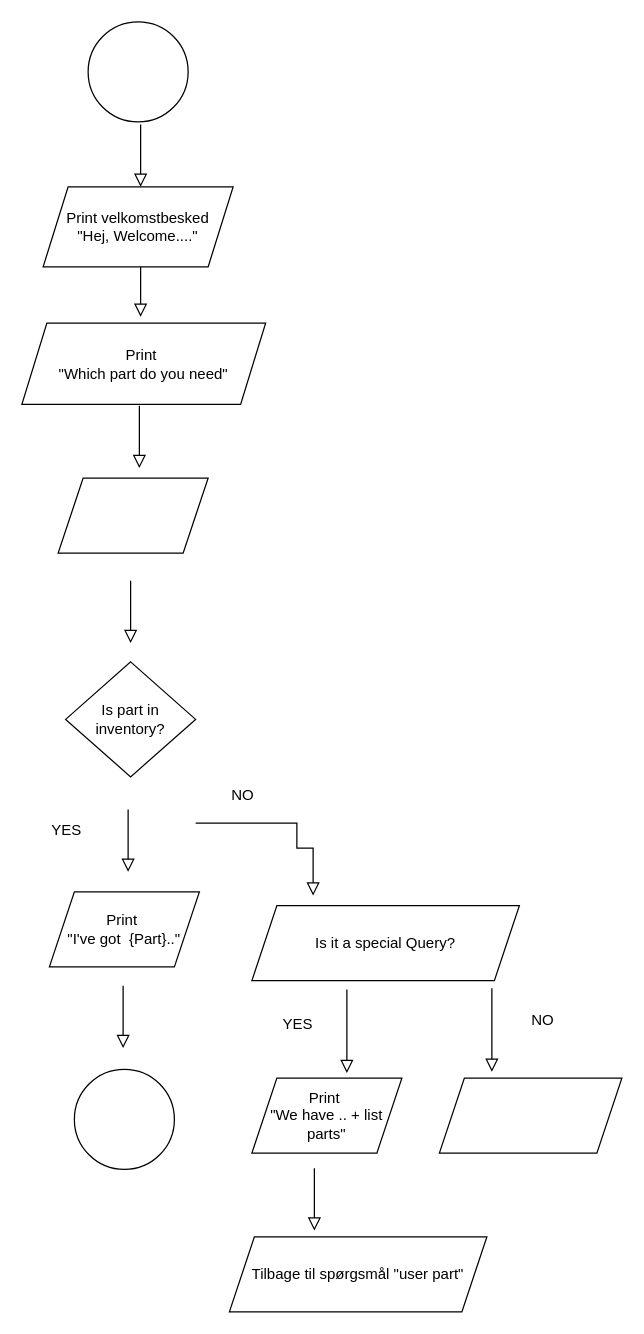
Image size: 644x1334. Some labels were removed from this diagram. The centre of each missing label's shape, as x and y in pixels:
Input: User part: [132,515]
Print "I am affraid we don't have...": [530,1115]
Start: [137,71]
Stop: [123,1118]
